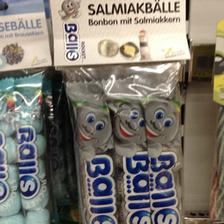Suessigkeit: (57, 0, 193, 224), (0, 1, 52, 222)
